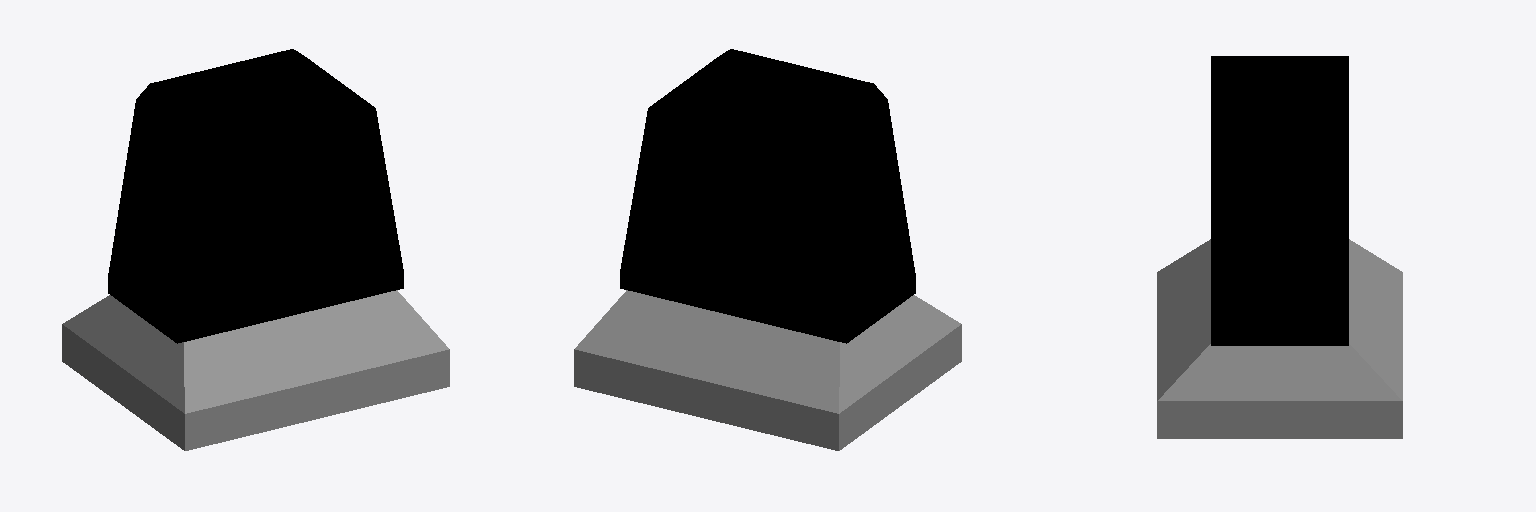
3 renders of one model, left to right at view 1: azimuth 30°, elevation 25°; view 2: azimuth 150°, elevation 25°; view 3: azimuth 270°, elevation 25°, orthographic.
Visible parts, largest first — view 1: Cuerpo2:pasted__pasted__body4; view 2: Cuerpo2:pasted__pasted__body4; view 3: Cuerpo2:pasted__pasted__body4.
Part boxes in pixels (x1,y1,x2,y2): Cuerpo2:pasted__pasted__body4: (62, 49, 449, 450); Cuerpo2:pasted__pasted__body4: (574, 49, 961, 450); Cuerpo2:pasted__pasted__body4: (1157, 56, 1402, 438).
Bounding box in the file's own units: 2.76 × 3.28 × 2.22.
2 materials, 1 textured.